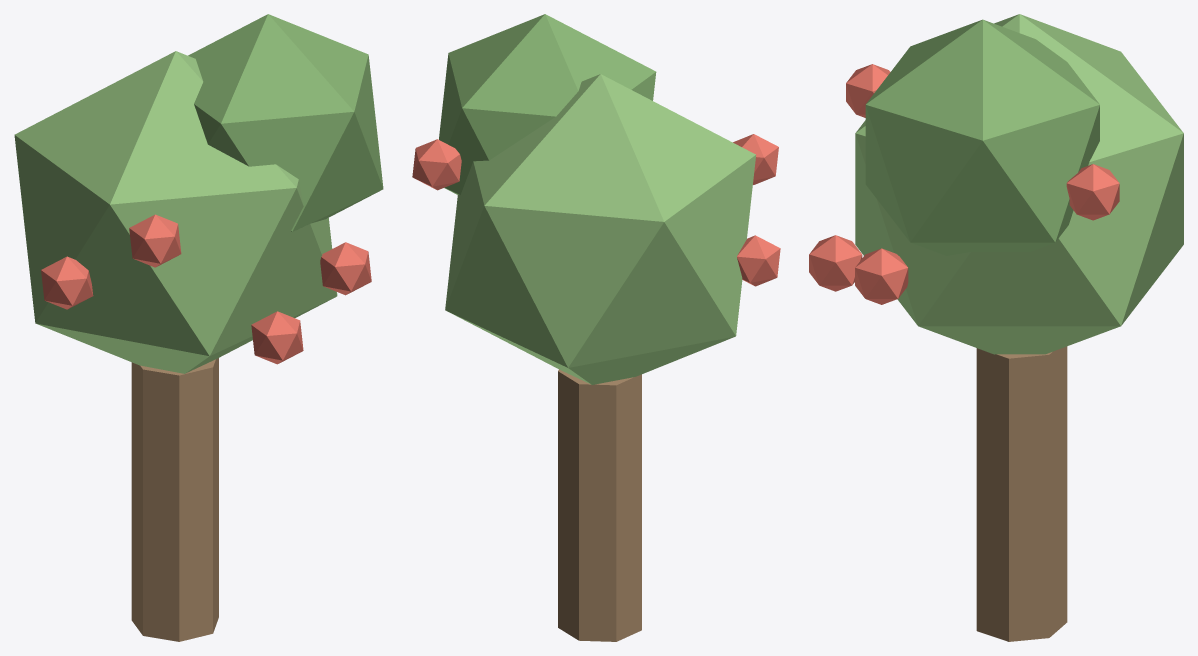
Rendered from tree_fruit.glb.
3 renders of one model, left to right at view 1: azimuth 30°, elevation 25°; view 2: azimuth 150°, elevation 25°; view 3: azimuth 270°, elevation 25°, orthographic. The views are drawn at different scales.
Visible parts, largest first — view 1: tree_fruit; view 2: tree_fruit; view 3: tree_fruit.
Part boxes in pixels (bbox=[...]): tree_fruit: bbox=[14, 14, 383, 641]; tree_fruit: bbox=[412, 14, 780, 641]; tree_fruit: bbox=[809, 14, 1183, 641].
Size of the model in its own units: 2.22 by 3.85 by 2.04.
